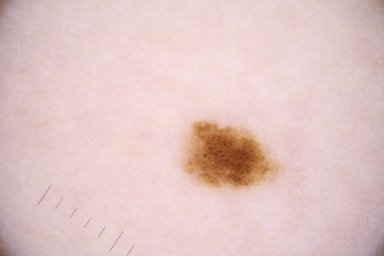melanoma: (178, 121, 285, 190)
